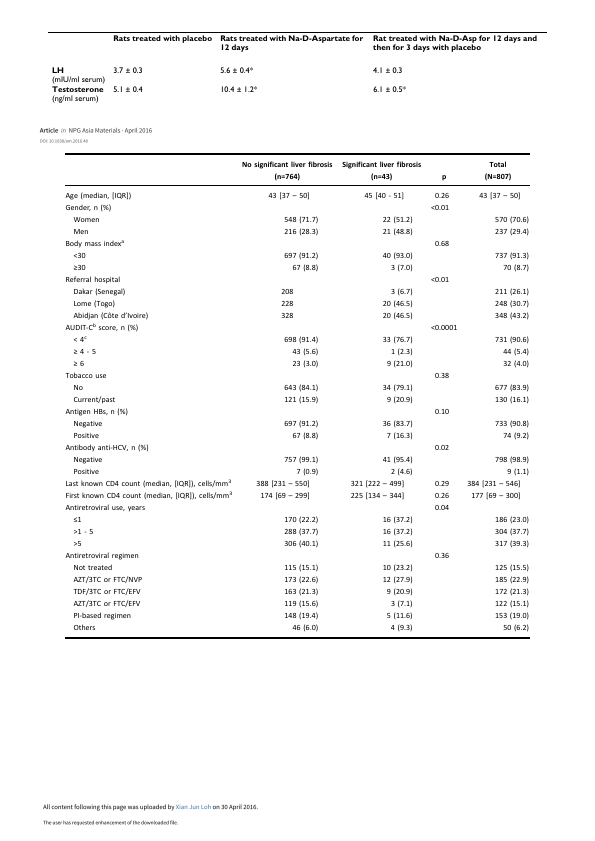borderless: (65, 152, 529, 637), (46, 30, 548, 112)
cell: (372, 35, 537, 53), (219, 35, 364, 53), (241, 160, 333, 181), (65, 490, 233, 501), (65, 478, 232, 489), (341, 160, 422, 181), (50, 66, 106, 85), (50, 86, 104, 104), (112, 35, 213, 44), (65, 322, 139, 333), (65, 444, 150, 453), (65, 504, 146, 513), (72, 599, 141, 609), (73, 312, 149, 321), (65, 552, 140, 561), (65, 238, 125, 249), (72, 576, 143, 585), (72, 588, 142, 597), (65, 192, 132, 201), (484, 160, 512, 181), (65, 408, 129, 417), (72, 612, 132, 621), (65, 276, 121, 285), (255, 480, 311, 489), (350, 480, 405, 489), (466, 480, 521, 489), (350, 492, 405, 501), (73, 288, 126, 297), (259, 492, 311, 501), (470, 492, 521, 501), (65, 204, 112, 213), (72, 563, 113, 573), (219, 85, 258, 95), (268, 192, 311, 201), (478, 192, 521, 201), (73, 300, 116, 309), (65, 372, 108, 381), (73, 396, 116, 405), (364, 192, 405, 201), (283, 455, 319, 465), (494, 455, 530, 465), (283, 563, 319, 573), (494, 563, 530, 573), (283, 599, 319, 609), (494, 599, 530, 609), (219, 66, 254, 76), (372, 85, 406, 95), (283, 216, 319, 225), (494, 216, 530, 225), (283, 228, 319, 237), (494, 228, 530, 237), (283, 252, 319, 261), (494, 252, 530, 261), (494, 288, 530, 297), (494, 300, 530, 309), (494, 312, 530, 321), (283, 336, 319, 345), (494, 336, 530, 345), (283, 384, 319, 393), (494, 384, 530, 393), (283, 396, 319, 405), (494, 396, 530, 405), (283, 420, 319, 429), (494, 420, 530, 429), (283, 516, 319, 525), (494, 516, 530, 525), (283, 528, 319, 537), (494, 528, 530, 537), (283, 540, 319, 549), (494, 540, 530, 549), (283, 576, 319, 585), (494, 576, 530, 585), (283, 588, 319, 597), (494, 588, 530, 597), (283, 612, 319, 621), (494, 612, 530, 621), (382, 455, 414, 465), (382, 563, 414, 573), (72, 455, 103, 465), (112, 66, 143, 76), (372, 66, 403, 76), (112, 85, 143, 95), (382, 216, 414, 225), (382, 228, 414, 237), (382, 252, 414, 261), (382, 300, 414, 309), (382, 312, 414, 321), (382, 336, 414, 345), (382, 384, 414, 393), (382, 420, 414, 429), (382, 516, 414, 525), (382, 528, 414, 537), (382, 540, 414, 549), (382, 576, 414, 585), (72, 420, 103, 429), (291, 264, 319, 273), (502, 264, 530, 273), (430, 324, 458, 333), (291, 348, 319, 357), (502, 348, 530, 357), (291, 360, 319, 369), (386, 360, 414, 369), (502, 360, 530, 369), (386, 396, 414, 405), (72, 432, 100, 441), (291, 432, 319, 441), (386, 432, 414, 441), (502, 432, 530, 441), (72, 468, 100, 477), (386, 588, 414, 597), (386, 612, 414, 621), (291, 624, 319, 633), (502, 624, 530, 633), (73, 216, 100, 225), (390, 599, 414, 609), (72, 348, 97, 357), (72, 624, 97, 633), (390, 264, 414, 273), (390, 288, 414, 297), (390, 348, 414, 357), (390, 468, 414, 477), (506, 468, 530, 477), (390, 624, 414, 633), (296, 468, 319, 477), (73, 528, 94, 537), (430, 204, 450, 213), (430, 276, 450, 285), (72, 334, 88, 345), (73, 228, 90, 237), (434, 192, 450, 201), (434, 240, 450, 249), (434, 372, 450, 381), (434, 408, 450, 417), (434, 444, 450, 453), (434, 480, 450, 489), (434, 492, 450, 501), (434, 504, 450, 513), (434, 552, 450, 561), (73, 252, 87, 261), (73, 264, 87, 273), (280, 288, 294, 297), (280, 300, 294, 309), (280, 312, 294, 321), (73, 360, 85, 369), (73, 384, 84, 393), (72, 540, 83, 549), (73, 516, 83, 525), (441, 172, 447, 181)
